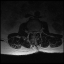CCS_normal: (33, 29, 35, 37)
LFS_stenosis: (37, 29, 39, 35)
LLS_normal: (35, 29, 37, 36)
RFS_stenosis: (29, 29, 31, 35)
RLS_normal: (31, 29, 33, 36)
